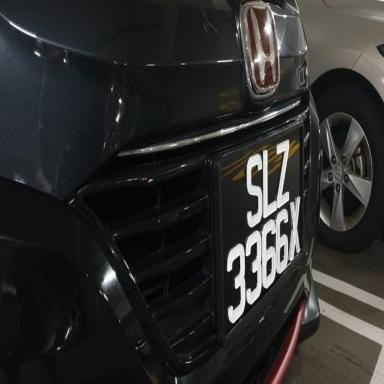License_Plate: (210, 118, 316, 340)
